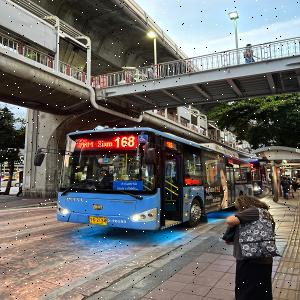BMTA-bus: (56, 127, 233, 232)
Bus Line Number: (114, 134, 137, 148)
Bus Side Number: (106, 217, 128, 224)
Destination Sign: (113, 181, 143, 190)
